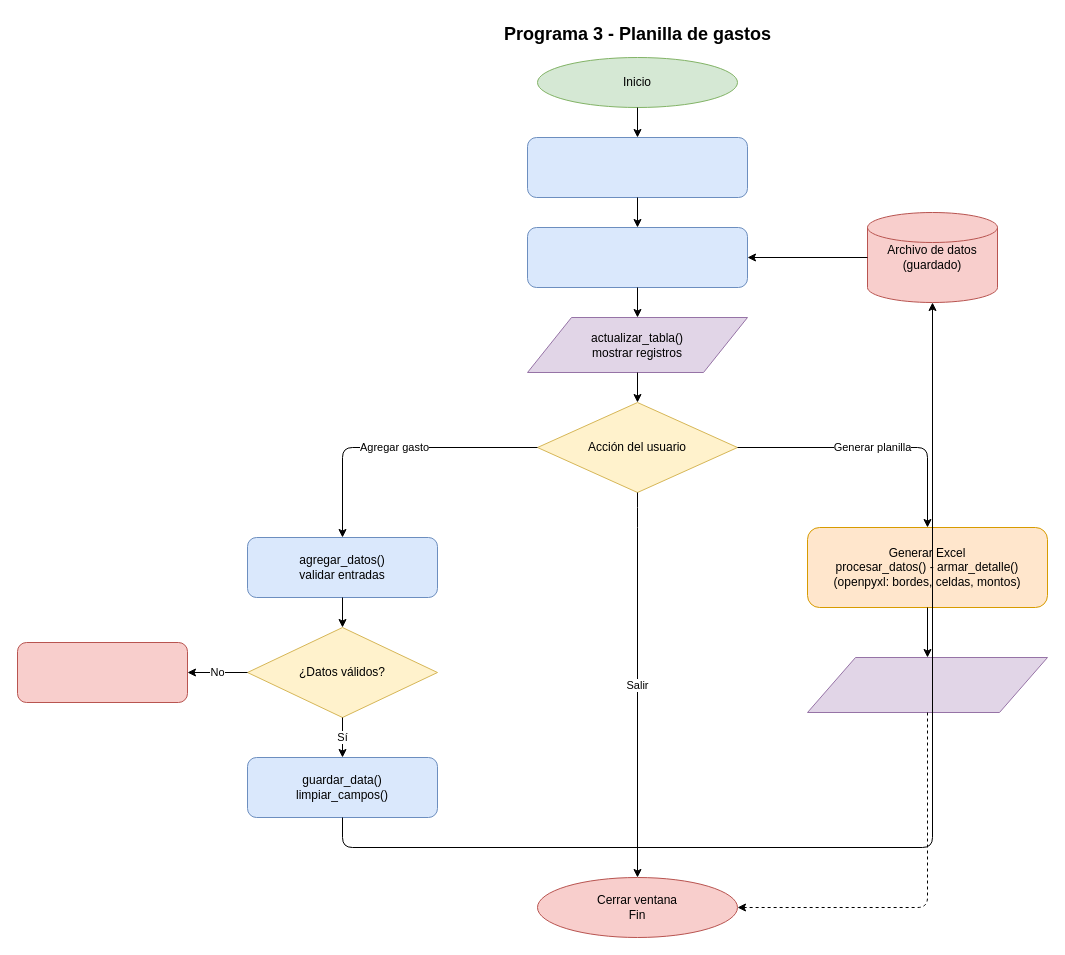
The diagram is 1065 pixels wide and 955 high, and some of its shapes have lost their labels. Here are the shapes that lost their labels. From the top down, the box of each, then its label:
(526, 136, 748, 198): Crear ventana (interfaz) campos: día, tópico, monto
(526, 226, 748, 288): recuperar_data() cargar datos guardados
(16, 642, 188, 702): Mostrar aviso de error
(806, 656, 1048, 712): Archivo Excel de gastos
